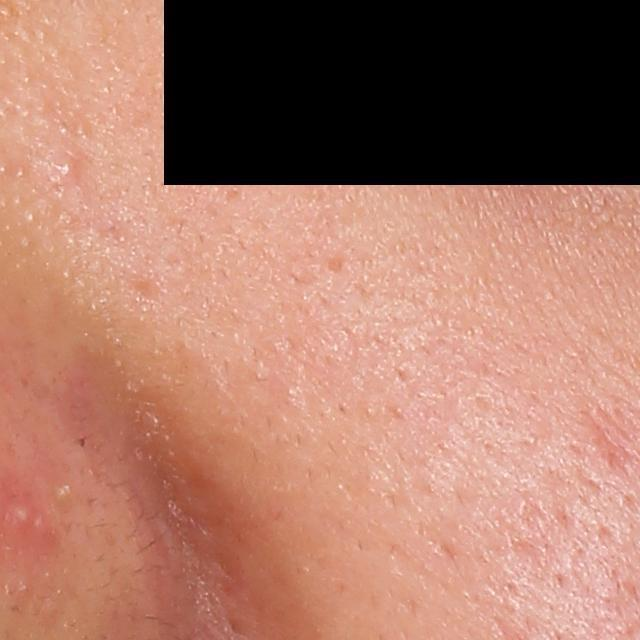papule: (53, 154, 83, 184)
pustule: (7, 495, 37, 526)
